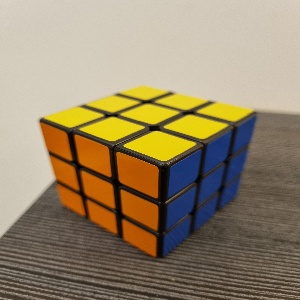cube: (39, 86, 257, 259)
